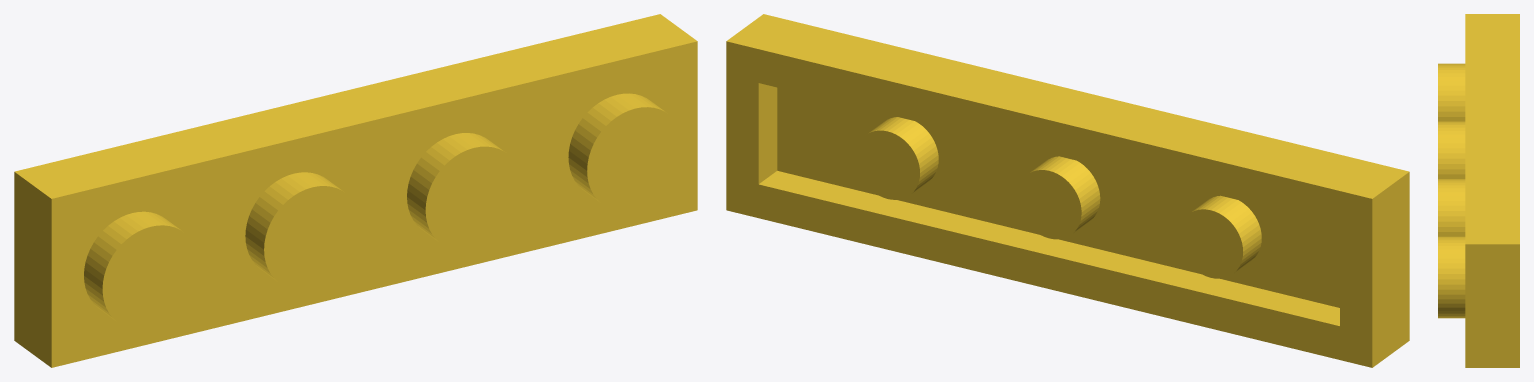
The picture shows the model from 3 angles, left to right: view 1: azimuth 30°, elevation 25°; view 2: azimuth 150°, elevation 25°; view 3: azimuth 270°, elevation 25°; orthographic projection. The views are drawn at different scales.
Visible parts, largest first — view 1: box5_1, _4_4disc_4, _4_4disc_6, _4_4disc_3, _4_4disc_5, _1_4cyli_21, _1_4cyli_13, _1_4cyli_17, _1_4cyli_25; view 2: mesh_37, box5, box5_1, _4_4disc_1, _4_4disc, _4_4disc_2, _1_4cyli_5, _1_4cyli_1, _1_4cyli_9; view 3: box5_1, _1_4cyli_12, _1_4cyli_16, _1_4cyli_24, _1_4cyli_20, _1_4cyli_15, _1_4cyli_25, _1_4cyli_13, _1_4cyli_17, _1_4cyli_21.
Boxes of the visible parts, left/top/right/bottom form: box5_1: left=14, top=14, right=697, bottom=367; _4_4disc_4: left=425, top=146, right=522, bottom=250; _4_4disc_6: left=102, top=225, right=199, bottom=329; _4_4disc_3: left=587, top=107, right=683, bottom=211; _4_4disc_5: left=264, top=186, right=360, bottom=289; _1_4cyli_21: left=245, top=173, right=311, bottom=249; _1_4cyli_13: left=568, top=95, right=635, bottom=170; _1_4cyli_17: left=407, top=134, right=473, bottom=209; _1_4cyli_25: left=84, top=213, right=150, bottom=288; mesh_37: left=726, top=41, right=1372, bottom=367; box5: left=758, top=83, right=1339, bottom=325; box5_1: left=726, top=14, right=1409, bottom=367; _4_4disc_1: left=1017, top=170, right=1081, bottom=239; _4_4disc: left=855, top=130, right=919, bottom=199; _4_4disc_2: left=1178, top=209, right=1242, bottom=278; _1_4cyli_5: left=1049, top=158, right=1100, bottom=211; _1_4cyli_1: left=888, top=119, right=938, bottom=172; _1_4cyli_9: left=1211, top=197, right=1261, bottom=251; box5_1: left=1465, top=14, right=1519, bottom=367; _1_4cyli_12: left=1438, top=240, right=1465, bottom=294; _1_4cyli_16: left=1438, top=182, right=1465, bottom=236; _1_4cyli_24: left=1438, top=67, right=1465, bottom=121; _1_4cyli_20: left=1438, top=125, right=1465, bottom=178; _1_4cyli_15: left=1438, top=294, right=1465, bottom=318; _1_4cyli_25: left=1438, top=63, right=1465, bottom=67; _1_4cyli_13: left=1438, top=236, right=1465, bottom=240; _1_4cyli_17: left=1438, top=179, right=1465, bottom=182; _1_4cyli_21: left=1438, top=121, right=1465, bottom=124.
Size of the model in its own units: 80 by 20 by 12.
